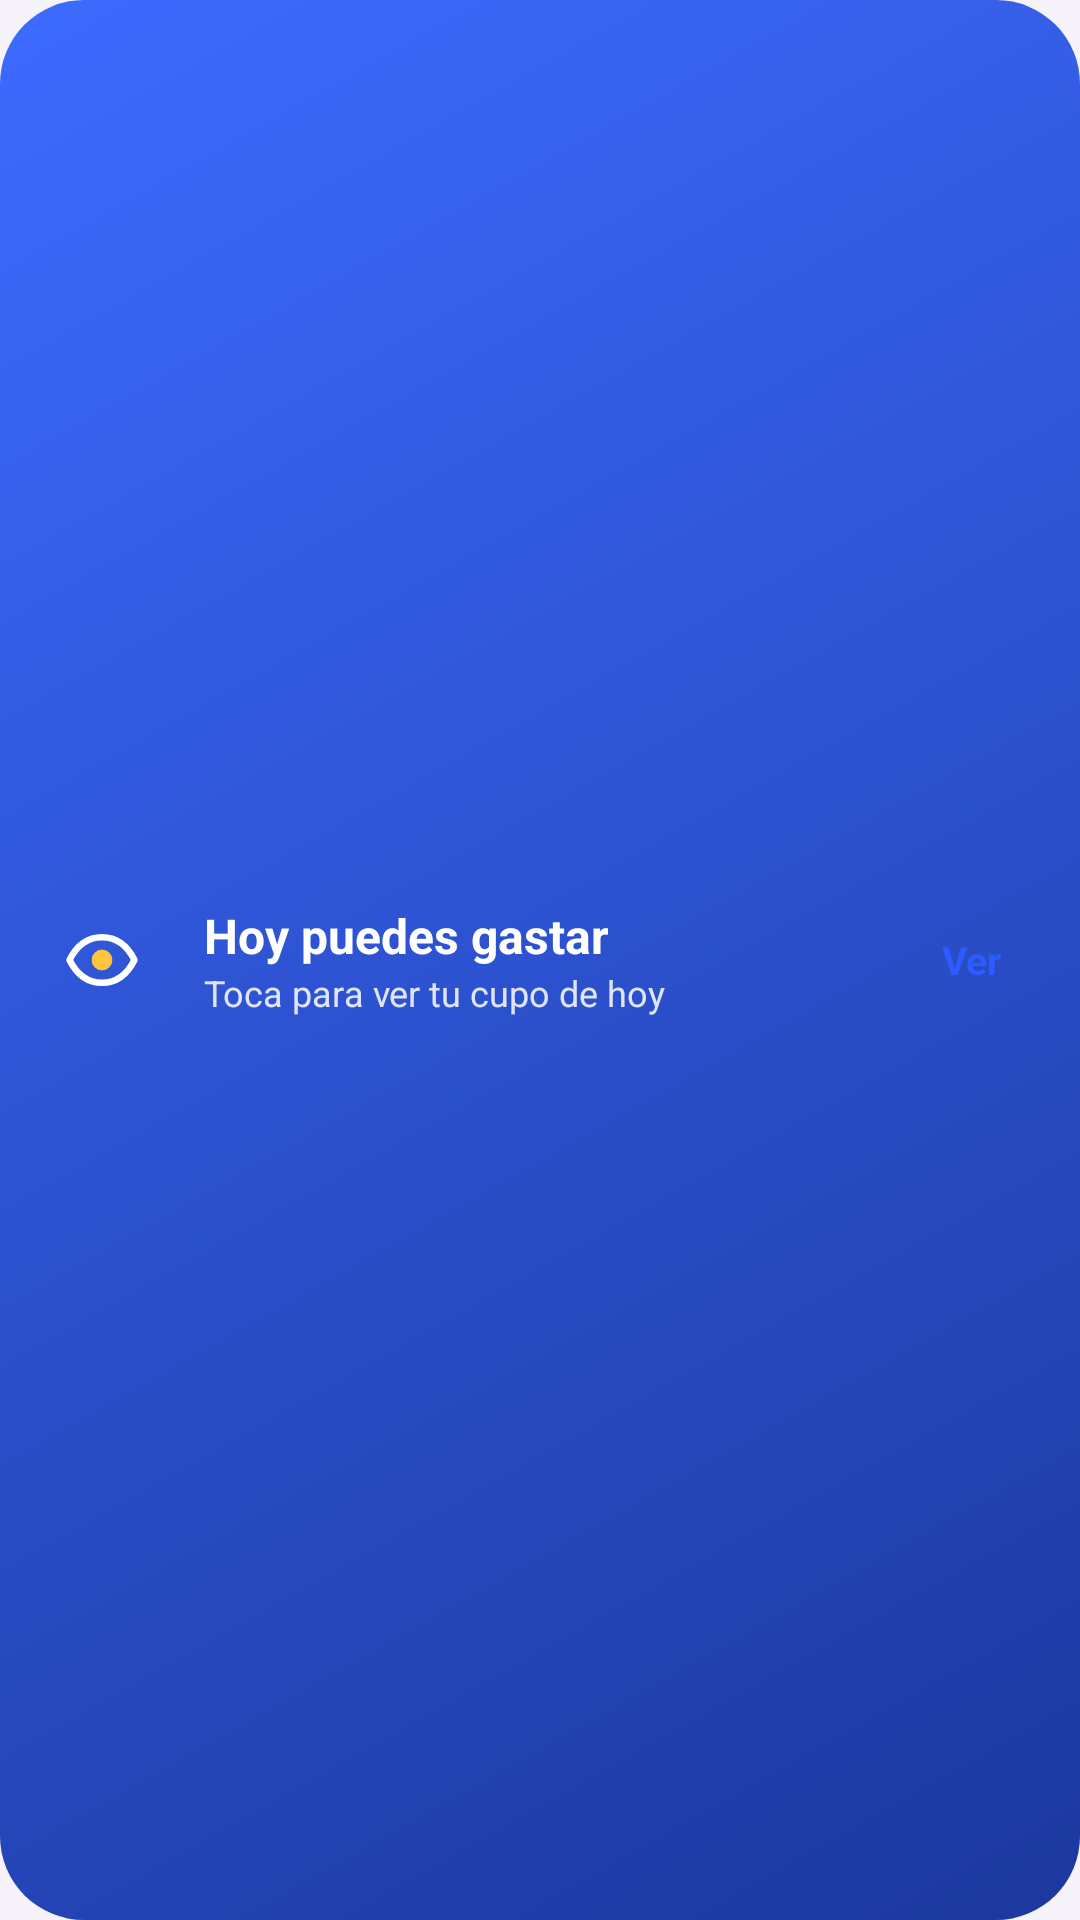

Named icons in this screenshot (1080px×1920px) and their bounding boxes, bbox=(x1, y1, x2, y2):
ojo: bbox=(66, 934, 138, 986)
